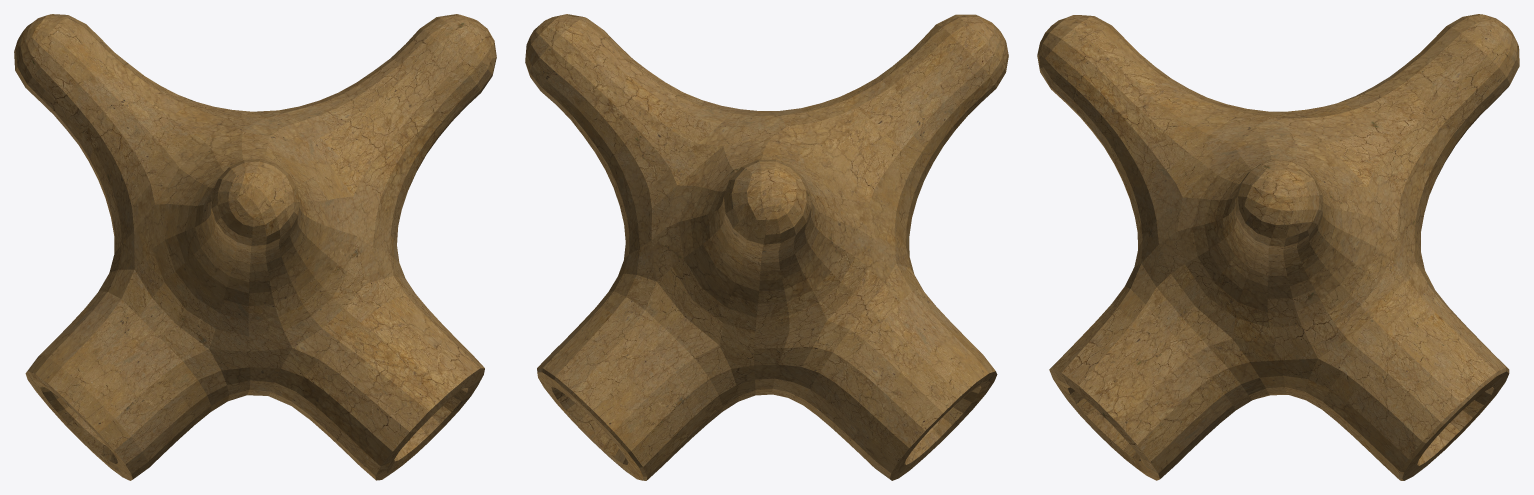
Rendered from Octa2.glb.
3 renders of one model, left to right at view 1: azimuth 30°, elevation 25°; view 2: azimuth 150°, elevation 25°; view 3: azimuth 270°, elevation 25°, orthographic.
Parts seen in each view (by area): view 1: Retopo_object_0_brick-foundation-1.002; view 2: Retopo_object_0_brick-foundation-1.002; view 3: Retopo_object_0_brick-foundation-1.002.
Part boxes in pixels (x1,y1,x2,y2): Retopo_object_0_brick-foundation-1.002: (14, 14, 496, 480); Retopo_object_0_brick-foundation-1.002: (525, 14, 1008, 480); Retopo_object_0_brick-foundation-1.002: (1037, 14, 1519, 480).
Bounding box in the file's own units: 0.28 × 0.2222 × 0.26.
Materials: 1 (1 with a texture image).
